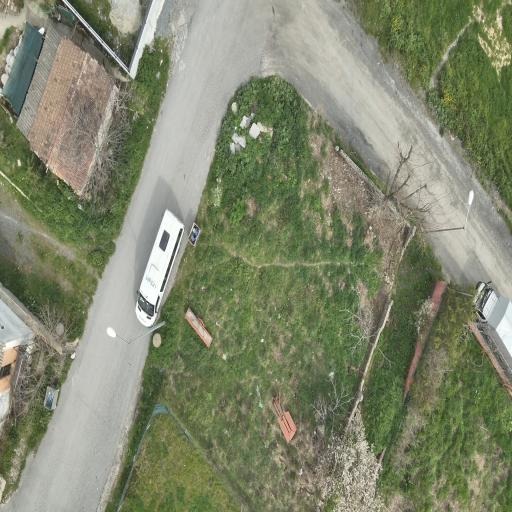bus: (136, 210, 184, 326)
truck: (475, 282, 511, 371)
